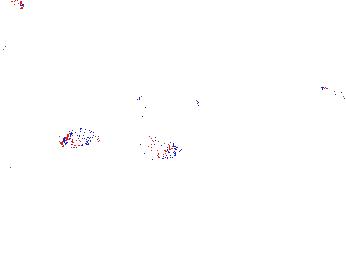X-ray fish: (127, 133, 183, 162), (84, 219, 122, 248), (58, 127, 101, 151)
glassfish: (193, 97, 301, 155), (138, 83, 158, 128)
redtail glassfish: (317, 83, 346, 101)
